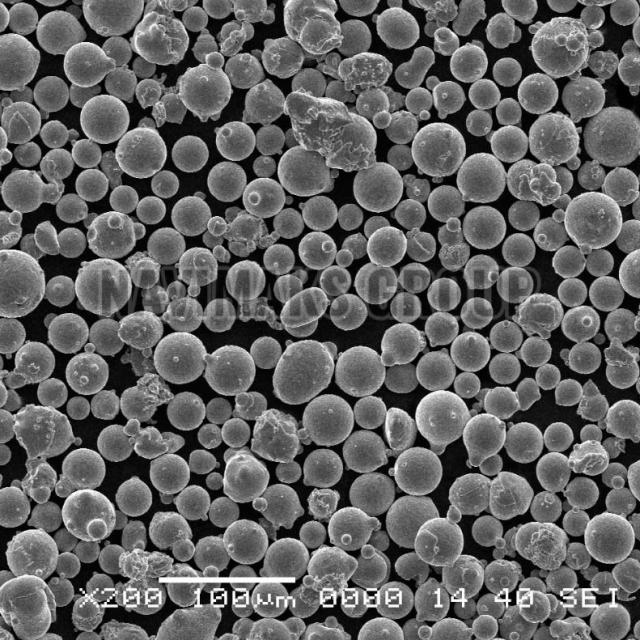cells: (282, 91, 378, 173), (410, 390, 476, 456), (561, 188, 626, 254), (1, 567, 59, 640), (12, 399, 79, 462), (73, 258, 139, 321), (56, 484, 120, 548), (525, 18, 592, 79), (275, 339, 335, 407), (348, 154, 408, 218), (174, 64, 234, 125), (126, 11, 192, 66), (524, 114, 586, 172), (586, 103, 640, 169), (282, 0, 344, 57), (578, 508, 640, 564), (413, 119, 468, 182), (513, 518, 573, 575), (275, 142, 333, 200), (300, 392, 356, 452), (0, 252, 49, 320), (81, 207, 141, 262), (205, 341, 260, 401), (385, 447, 448, 499), (252, 406, 306, 466), (332, 340, 386, 399), (217, 448, 273, 503), (64, 38, 120, 93), (77, 91, 130, 149), (114, 122, 167, 180), (386, 494, 441, 548), (486, 466, 536, 525), (377, 318, 431, 372), (5, 528, 60, 581), (333, 50, 396, 96), (53, 448, 108, 500), (415, 513, 465, 570), (458, 150, 508, 207), (507, 158, 565, 207), (462, 411, 510, 470), (156, 333, 208, 387), (327, 503, 380, 555), (216, 205, 268, 258), (119, 373, 170, 426), (459, 201, 509, 255), (222, 514, 271, 568), (81, 0, 147, 40), (347, 470, 399, 518), (64, 349, 114, 398), (146, 452, 195, 502), (374, 4, 424, 53), (254, 482, 304, 531), (36, 13, 90, 58), (256, 34, 308, 80), (514, 292, 565, 338), (342, 429, 394, 474), (239, 174, 289, 220), (2, 31, 41, 89), (446, 471, 496, 516), (13, 339, 59, 387), (112, 472, 156, 522), (279, 286, 330, 329), (306, 546, 358, 588), (258, 537, 310, 578), (117, 308, 165, 352), (366, 223, 409, 272), (504, 419, 547, 468), (450, 38, 492, 88), (216, 115, 259, 163), (176, 243, 218, 292), (245, 75, 283, 129), (3, 166, 46, 213), (170, 191, 211, 240), (354, 264, 399, 308), (223, 258, 266, 304), (392, 44, 435, 90), (2, 100, 45, 145), (425, 74, 468, 119), (300, 445, 342, 491), (45, 311, 91, 353), (147, 512, 194, 553), (489, 122, 532, 166), (563, 76, 606, 120), (562, 300, 602, 347), (207, 160, 250, 203), (85, 315, 128, 358), (170, 130, 212, 174), (415, 348, 457, 392), (516, 73, 562, 113), (166, 390, 208, 433), (450, 331, 492, 374), (603, 399, 640, 447), (569, 436, 611, 478), (352, 546, 394, 588), (94, 422, 135, 465), (534, 451, 575, 494), (436, 225, 473, 272), (327, 293, 370, 333), (385, 405, 419, 455), (146, 227, 188, 267), (605, 342, 640, 390), (224, 52, 267, 91), (576, 376, 612, 422), (480, 13, 523, 51), (159, 298, 204, 334), (422, 309, 462, 349), (460, 252, 501, 291), (152, 88, 190, 130), (335, 13, 373, 55), (192, 534, 232, 573), (602, 166, 640, 207), (496, 268, 536, 306), (298, 231, 336, 271), (426, 184, 467, 221), (479, 386, 522, 421), (426, 275, 464, 314), (34, 75, 72, 114), (36, 147, 76, 184), (303, 193, 338, 235), (4, 0, 42, 38), (587, 276, 626, 313), (258, 242, 297, 278), (0, 485, 31, 530), (393, 550, 434, 584), (202, 296, 238, 334), (384, 358, 422, 394), (500, 232, 538, 268), (290, 66, 328, 102), (104, 66, 142, 102), (616, 38, 640, 95), (175, 486, 212, 522), (551, 244, 590, 278), (564, 474, 600, 510), (532, 216, 568, 252), (488, 319, 525, 354), (354, 87, 392, 121), (386, 108, 420, 146), (401, 84, 436, 120), (107, 182, 142, 218), (352, 396, 387, 432), (517, 334, 554, 368), (507, 195, 541, 232), (250, 334, 283, 372), (603, 306, 639, 340), (566, 342, 602, 376), (488, 349, 520, 387), (406, 226, 437, 265), (389, 290, 424, 324), (473, 514, 506, 550), (355, 616, 404, 640), (396, 261, 430, 295), (75, 167, 110, 200), (544, 419, 577, 454), (619, 248, 640, 303), (528, 489, 564, 521), (603, 484, 640, 515), (45, 275, 79, 308), (255, 123, 288, 157), (208, 496, 242, 529), (296, 518, 330, 551), (319, 264, 352, 298), (273, 207, 307, 240), (490, 56, 524, 89), (461, 296, 493, 331), (52, 227, 87, 259), (148, 168, 182, 200), (394, 198, 428, 230), (131, 256, 162, 291), (87, 390, 122, 421), (306, 488, 341, 519), (36, 377, 69, 409), (221, 416, 253, 449), (41, 116, 71, 151), (533, 360, 564, 393), (561, 507, 592, 540), (468, 79, 501, 110), (34, 221, 63, 256), (134, 194, 167, 224), (57, 192, 90, 222), (119, 520, 148, 554), (514, 376, 541, 412), (71, 139, 102, 170), (556, 279, 588, 309), (432, 26, 462, 58), (556, 377, 584, 411), (484, 558, 522, 583), (15, 140, 46, 170), (560, 541, 590, 572), (585, 245, 615, 276), (576, 162, 607, 192), (495, 98, 525, 129), (608, 0, 640, 28), (134, 78, 163, 108), (98, 546, 129, 574), (454, 369, 482, 399), (190, 31, 218, 60), (189, 448, 220, 474), (553, 164, 578, 196), (182, 5, 210, 32), (207, 398, 234, 426), (197, 422, 223, 451), (252, 152, 278, 180), (466, 110, 494, 136), (65, 394, 91, 421), (579, 6, 606, 32), (370, 526, 393, 554), (58, 551, 80, 580), (86, 572, 120, 586), (205, 469, 224, 494), (334, 247, 355, 269), (208, 216, 228, 238), (375, 109, 393, 129), (444, 214, 461, 232), (552, 208, 568, 224), (8, 208, 24, 224), (582, 314, 596, 332), (590, 32, 603, 49), (108, 216, 123, 230), (537, 234, 549, 246)
